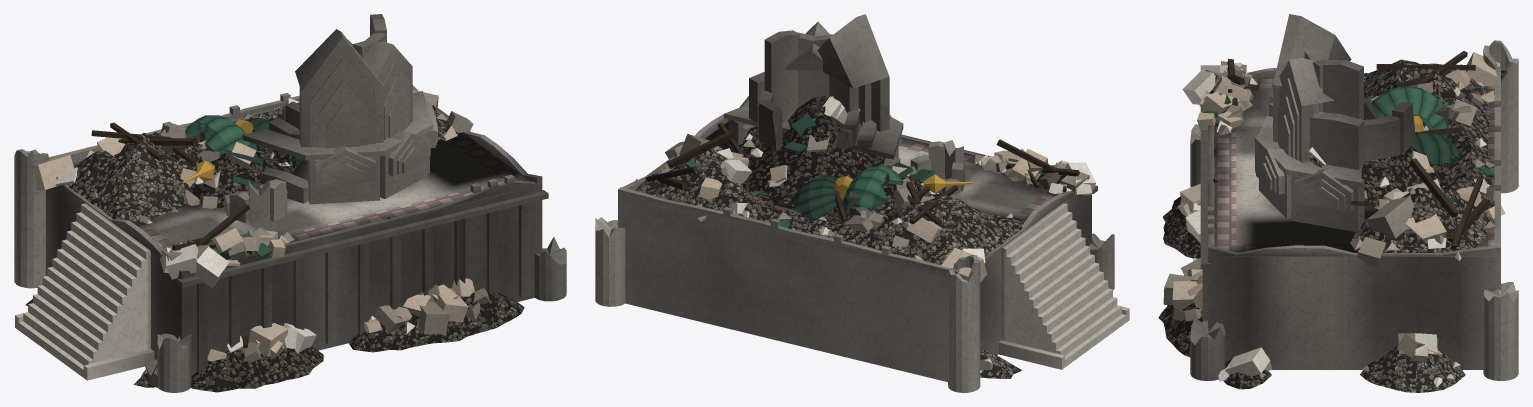
Rendered from CreBuild01b.glb.
The picture shows the model from 3 angles, left to right: view 1: azimuth 30°, elevation 25°; view 2: azimuth 150°, elevation 25°; view 3: azimuth 270°, elevation 25°; orthographic projection. The views are drawn at different scales.
Parts seen in each view (by area): view 1: marble; view 2: marble; view 3: marble.
Boxes of the visible parts, <box> form: marble: <box>14,14,566,392</box>; marble: <box>595,14,1129,392</box>; marble: <box>1158,14,1518,392</box>.
Size of the model in its own units: 19.59 by 10.89 by 12.66.
Materials: 6 (5 with a texture image).
